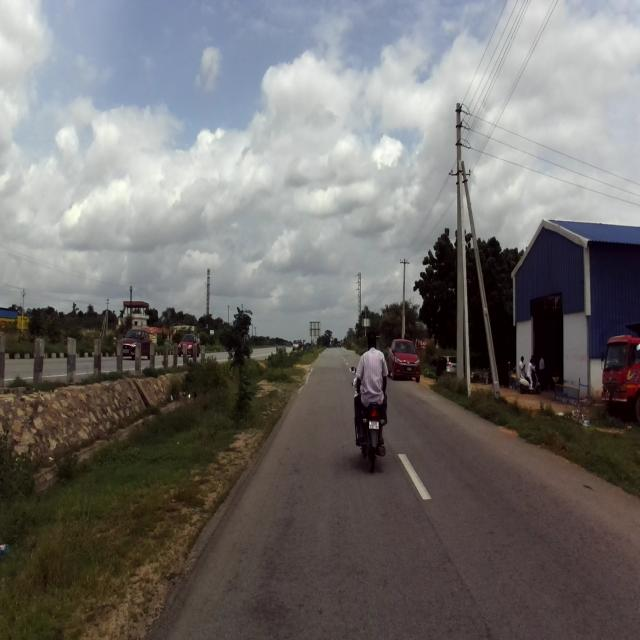Car_Hyundai: (386, 336, 420, 382)
Car_Maruti-Suzuki: (118, 329, 153, 361)
motorcycle_Honda: (349, 366, 386, 472)
